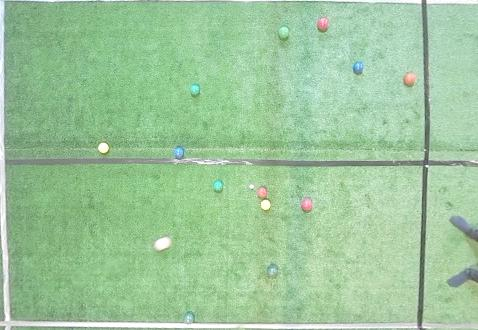blue: (173, 146, 184, 159), (353, 61, 363, 73)
green: (278, 26, 289, 39), (267, 265, 278, 277), (183, 312, 194, 324), (190, 84, 200, 96), (213, 180, 223, 192)
red: (153, 236, 172, 252), (403, 72, 416, 86), (301, 198, 313, 212), (317, 17, 328, 32), (257, 186, 267, 198)
vline: (416, 1, 478, 329), (0, 1, 15, 329)
white: (249, 184, 254, 190)
yellow: (97, 142, 110, 154), (260, 199, 271, 211)
